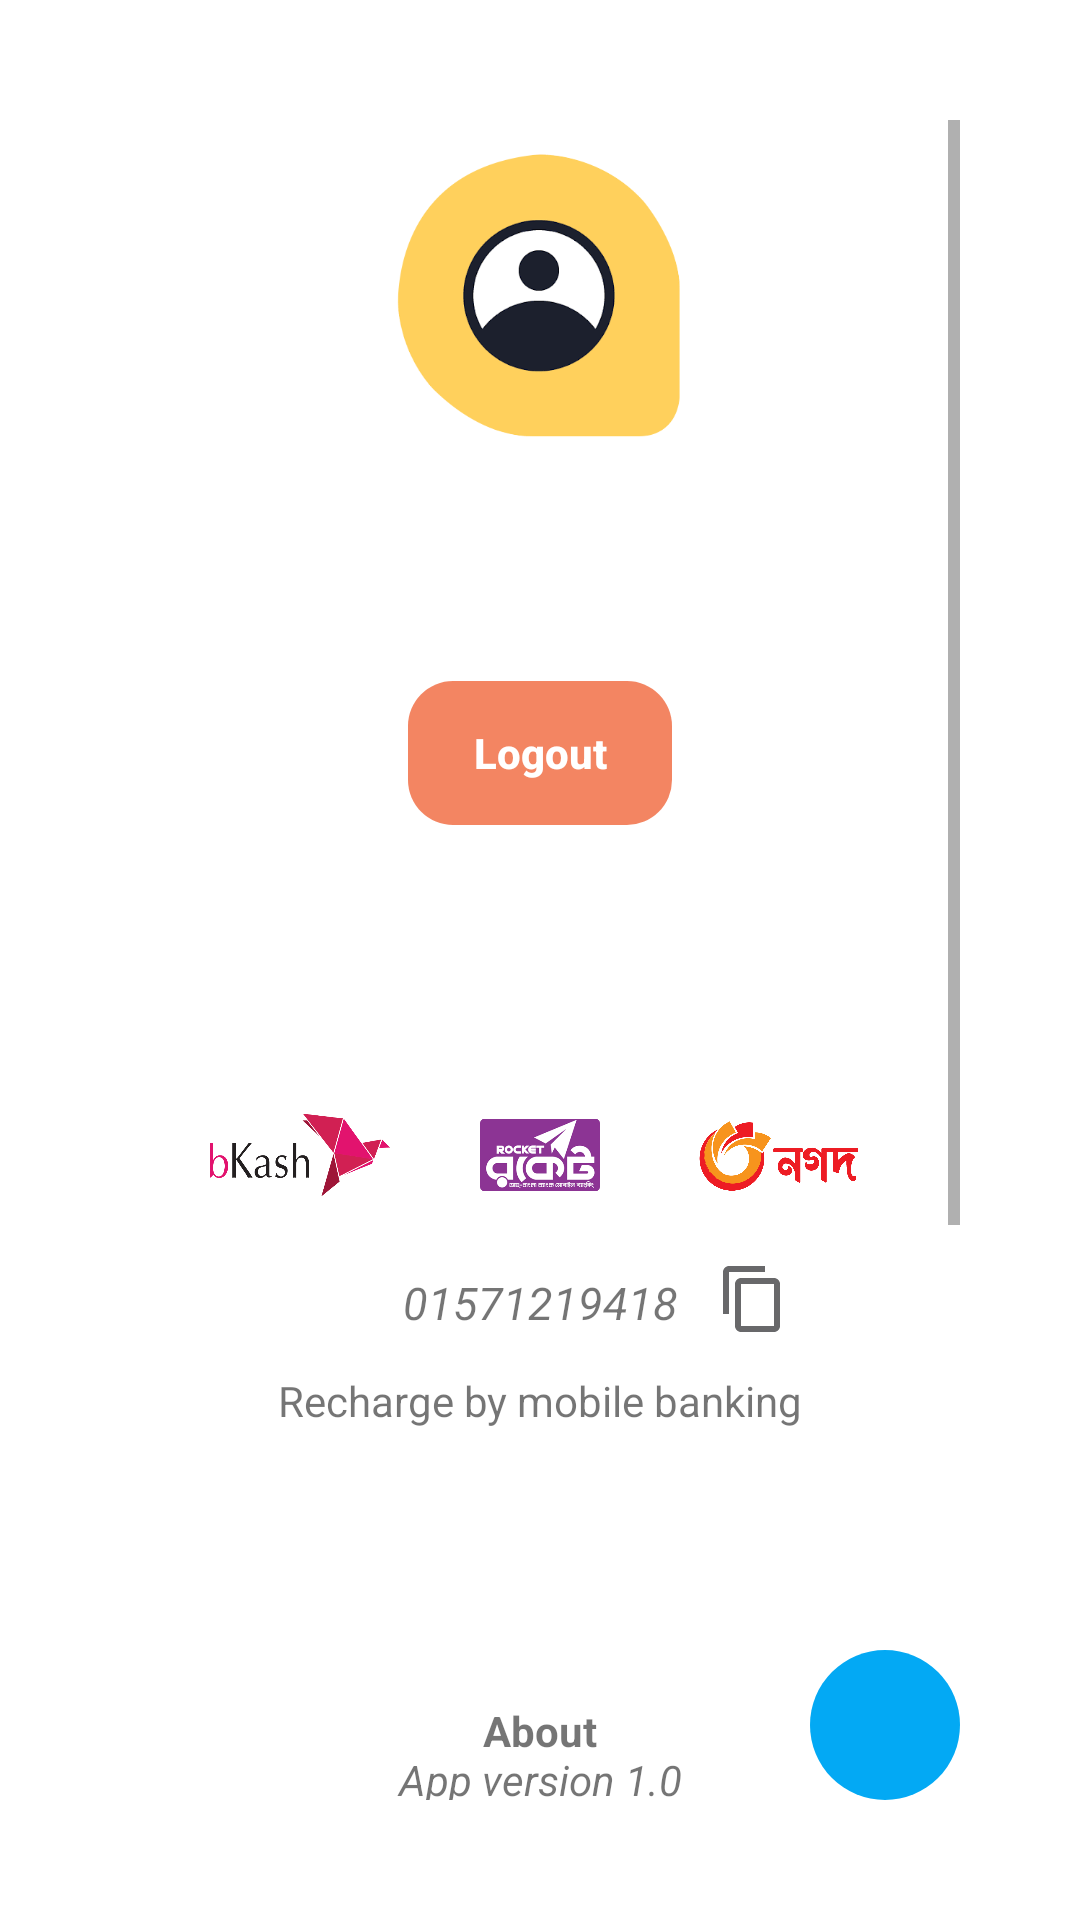

Named icons in this screenshot (1080px×1920px) and their bounding boxes, (x1, y1, x2, y2):
user: (398, 154, 680, 437)
